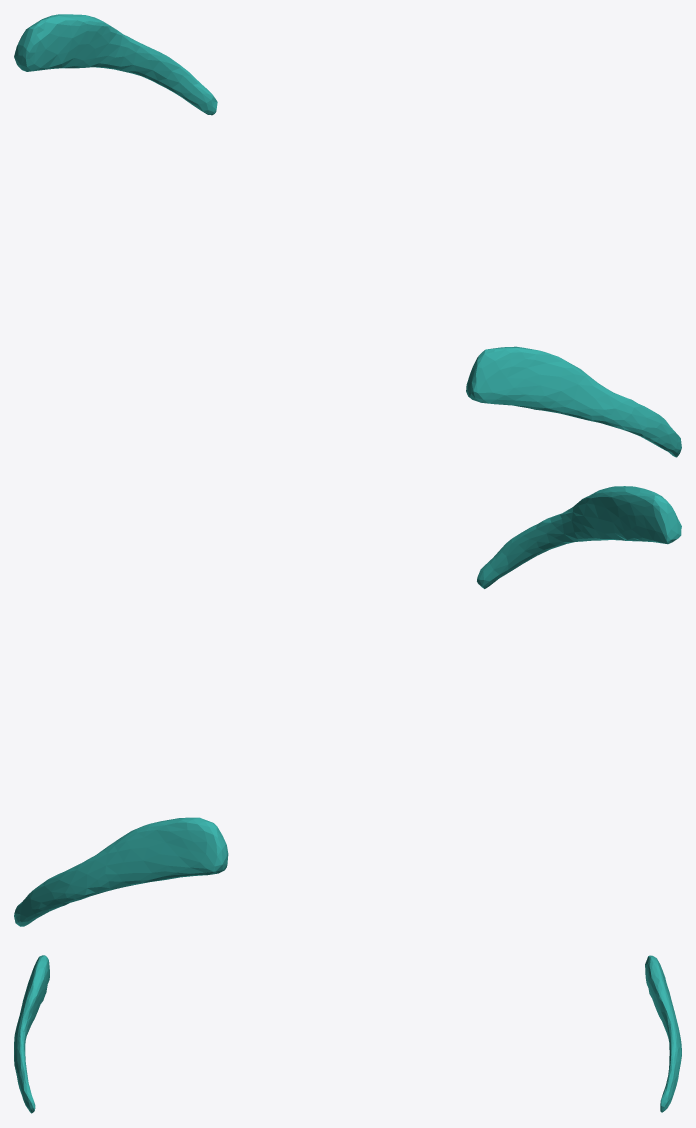
3 renders of one model, top to bottom at view 1: azimuth 30°, elevation 25°; view 2: azimuth 150°, elevation 25°; view 3: azimuth 270°, elevation 25°, orthographic. The views are drawn at different scales.
Parts seen in each view (by area): view 1: 977.obj; view 2: 977.obj; view 3: 977.obj.
Boxes of the visible parts, x1,y1,x2,y2 form: 977.obj: [14, 14, 681, 457]; 977.obj: [14, 486, 681, 926]; 977.obj: [14, 955, 681, 1113].
Bounding box in the file's own units: 2195 × 1478 × 9013.
